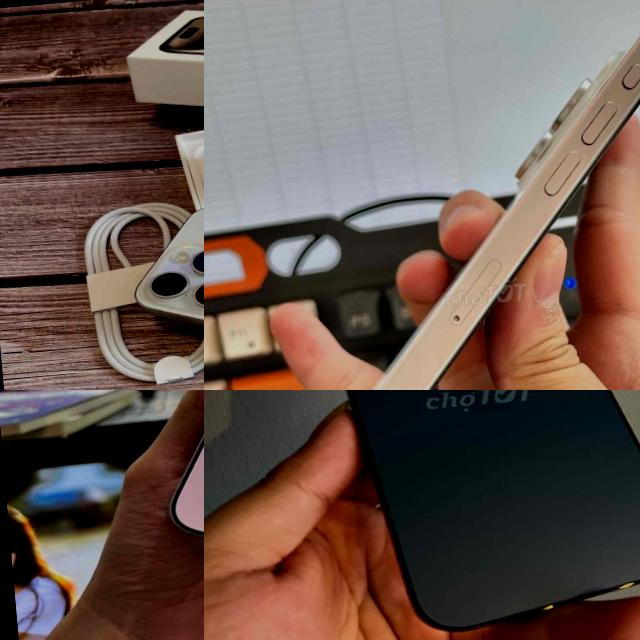gen_12_13: (306, 390, 640, 640)
gen_15: (204, 0, 640, 390), (120, 177, 204, 390)
gen_17: (143, 390, 204, 586)
